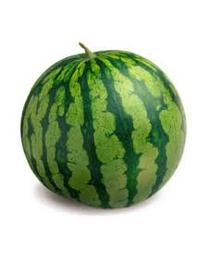watermelon: (19, 48, 188, 212)
